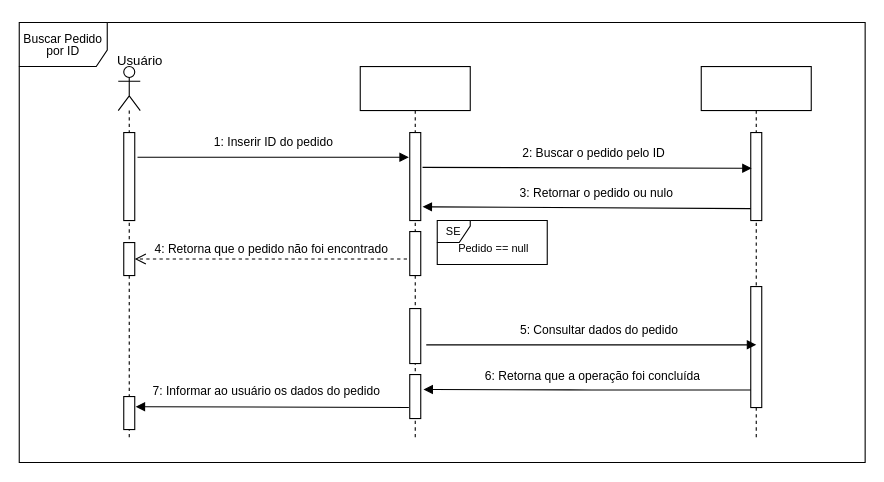
Image size: 884x482. Some labels were removed from this diagram. Here are the shapes that lost their labels. From the top down, the centre of each, then its label:
(414,253): Sistema
(755,253): Banco de Dados
